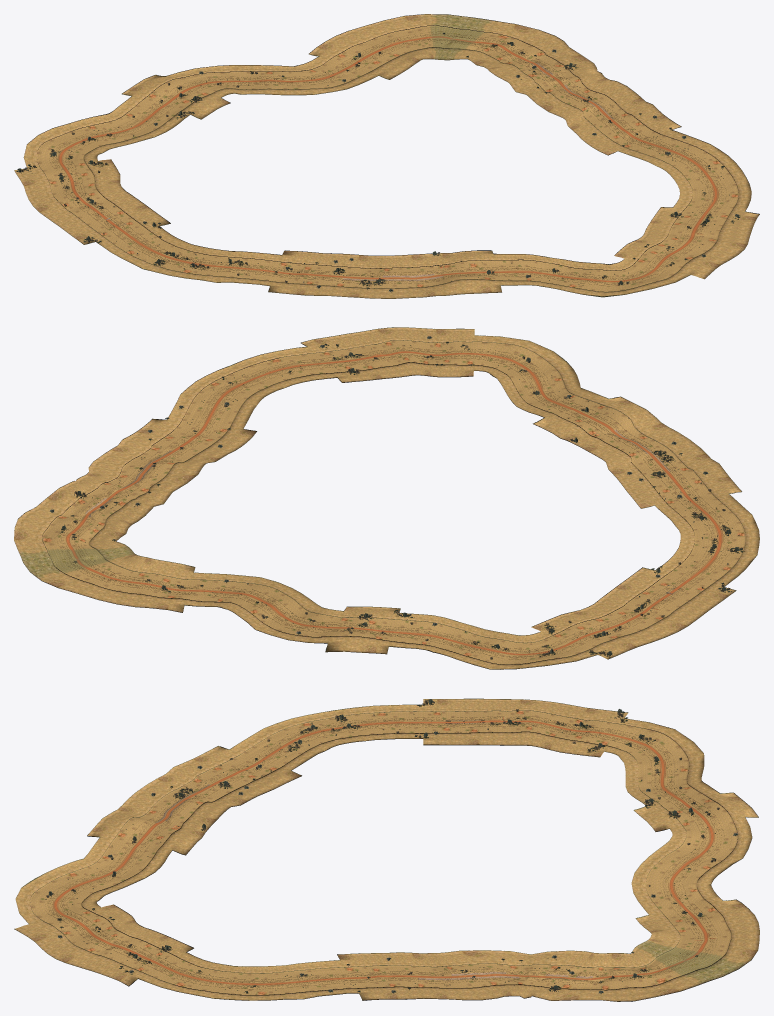
Rendered from kenya_stage7_visual.glb.
The picture shows the model from 3 angles, top to bottom: view 1: azimuth 30°, elevation 25°; view 2: azimuth 150°, elevation 25°; view 3: azimuth 270°, elevation 25°; orthographic projection. The views are drawn at different scales.
Visible parts, largest first — view 1: Track_Road_And_Terrain, Foliage_And_Vegetation; view 2: Track_Road_And_Terrain, Foliage_And_Vegetation; view 3: Track_Road_And_Terrain, Foliage_And_Vegetation.
Part boxes in pixels (<box>): Track_Road_And_Terrain: <box>14,14,759,298</box>; Foliage_And_Vegetation: <box>16,31,740,292</box>; Track_Road_And_Terrain: <box>14,327,759,669</box>; Foliage_And_Vegetation: <box>50,336,744,659</box>; Track_Road_And_Terrain: <box>14,698,759,1001</box>; Foliage_And_Vegetation: <box>45,699,738,993</box>.
Size of the model in its own units: 1854 by 44.11 by 1930.
Materials: 32 (32 with a texture image).
